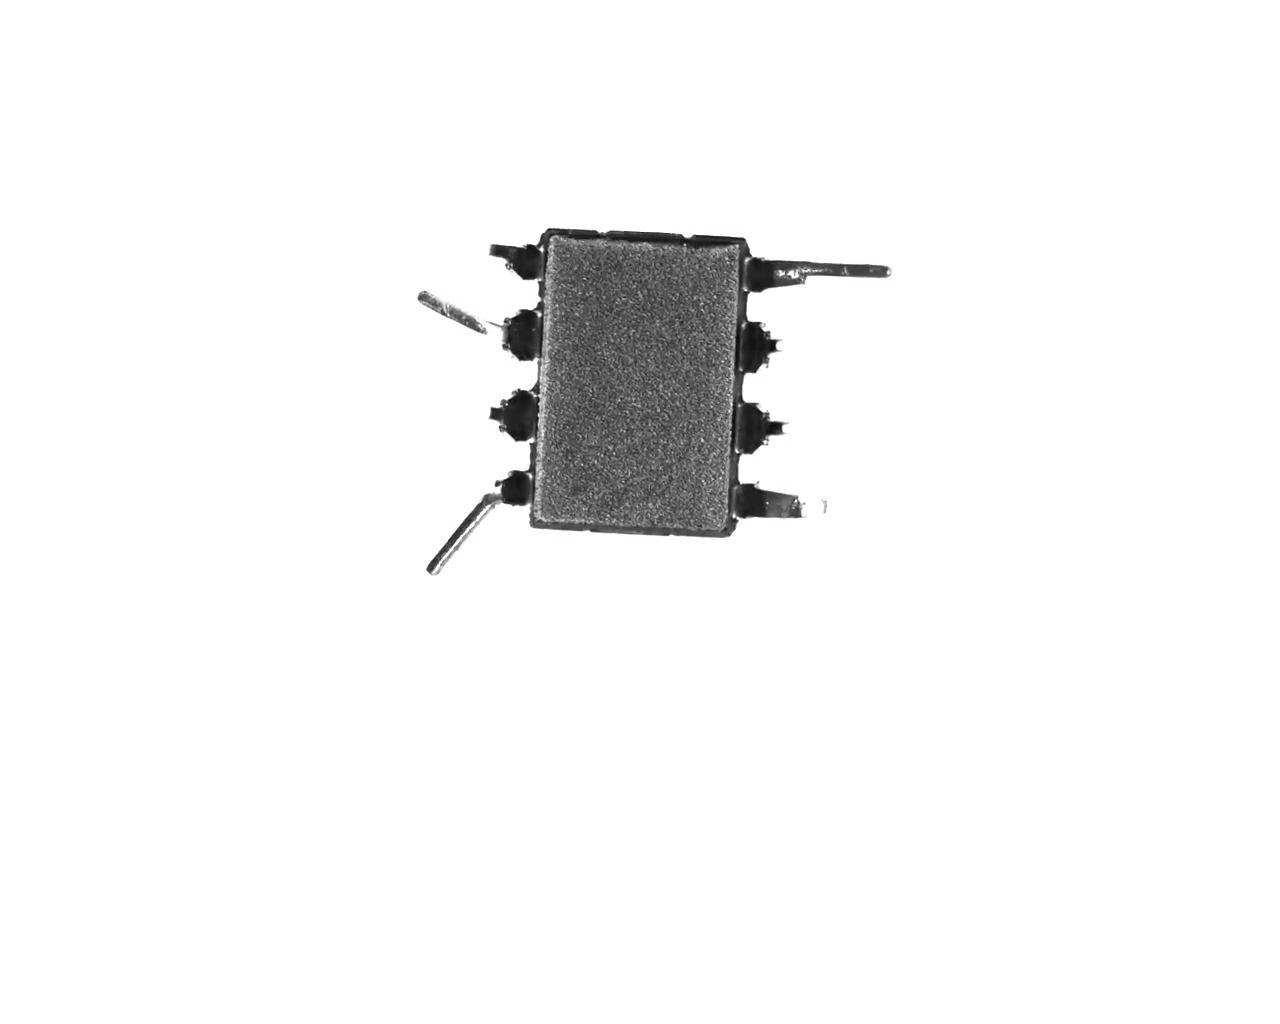Leg: (412, 276, 544, 374), (422, 463, 532, 577), (742, 249, 895, 295), (730, 479, 835, 530)
brokenLeg: (478, 380, 543, 447), (729, 390, 789, 456), (738, 318, 790, 376), (479, 236, 546, 281)
